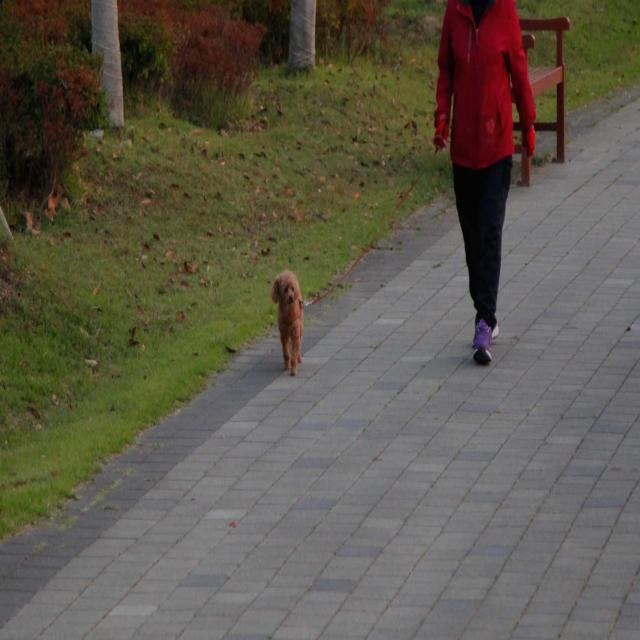Leashed_Dog: (271, 116, 469, 376)
